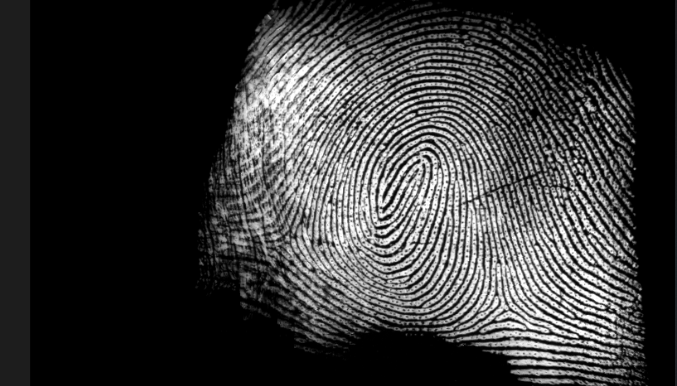deltas: (260, 209, 316, 264), (475, 280, 530, 335)
nucleo: (387, 151, 455, 212)
